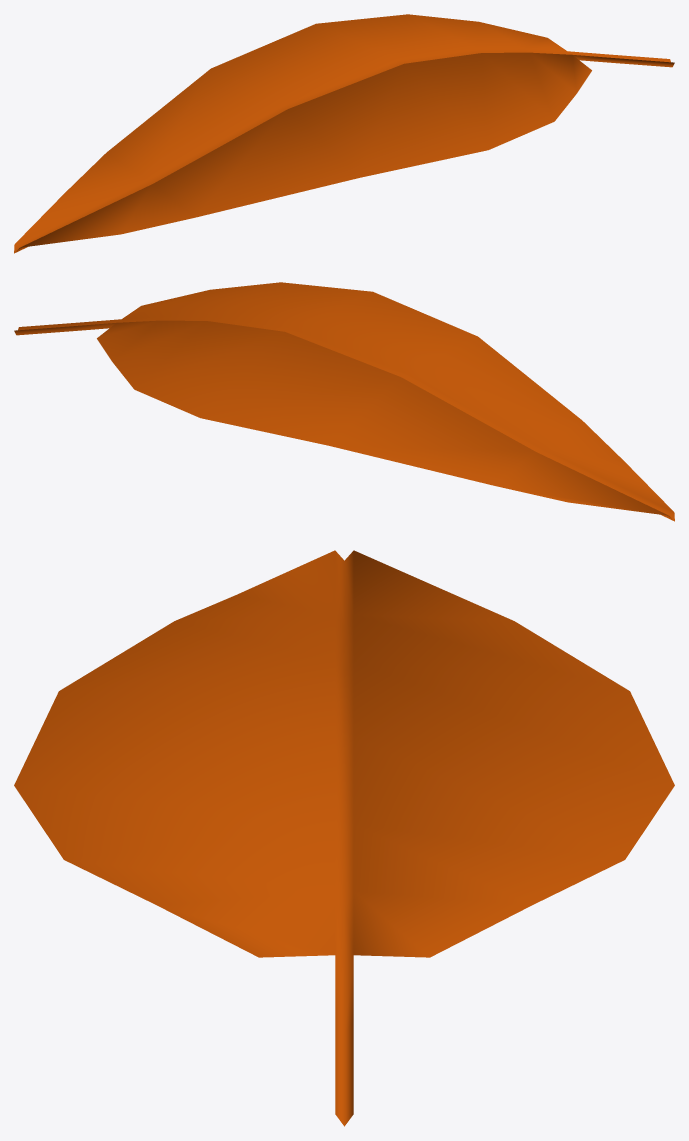
The model's file is leaf.glb.
3 renders of one model, top to bottom at view 1: azimuth 30°, elevation 25°; view 2: azimuth 150°, elevation 25°; view 3: azimuth 270°, elevation 25°, orthographic. The views are drawn at different scales.
Visible parts, largest first — view 1: Plane; view 2: Plane; view 3: Plane.
Boxes of the visible parts, x1,y1,x2,y2 form: Plane: (14, 14, 674, 253); Plane: (14, 282, 674, 521); Plane: (14, 550, 674, 1126).
Size of the model in its own units: 6.48 by 0.9127 by 2.94.
